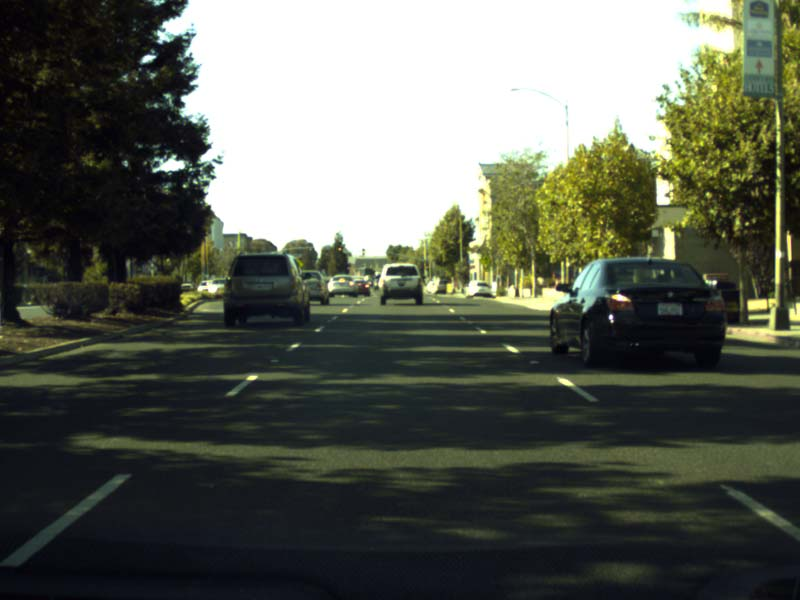Yellow: (337, 246, 342, 253), (361, 248, 364, 255)
